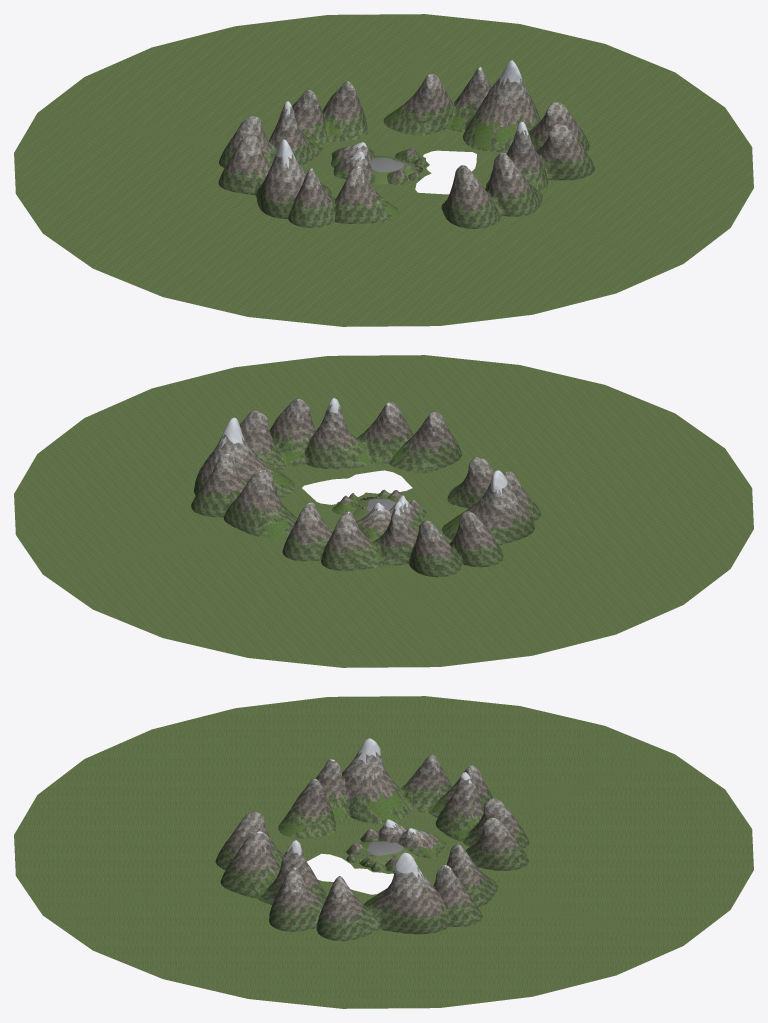
Rendered from City_Terrain.fbx.
The picture shows the model from 3 angles, top to bottom: view 1: azimuth 30°, elevation 25°; view 2: azimuth 150°, elevation 25°; view 3: azimuth 270°, elevation 25°; orthographic projection.
Parts seen in each view (by area): view 1: Terrain_Ground.001, Terrain_M외부 쉘21_002_LOD0, Terrain_M외부 쉘21_001_LOD0, Terrain_M그룹24_002_LOD0, Terrain_cm2_p0_LOD0; view 2: Terrain_Ground.001, Terrain_M외부 쉘21_002_LOD0, Terrain_M외부 쉘21_001_LOD0, Terrain_M그룹24_002_LOD0; view 3: Terrain_Ground.001, Terrain_M외부 쉘21_002_LOD0, Terrain_M외부 쉘21_001_LOD0, Terrain_M그룹24_002_LOD0, Terrain_cm2_p0_LOD0.
Boxes of the visible parts, left/top/right/bottom form: Terrain_Ground.001: left=14, top=14, right=753, bottom=326; Terrain_M외부 쉘21_002_LOD0: left=383, top=60, right=594, bottom=228; Terrain_M외부 쉘21_001_LOD0: left=218, top=81, right=399, bottom=227; Terrain_M그룹24_002_LOD0: left=331, top=142, right=375, bottom=184; Terrain_cm2_p0_LOD0: left=369, top=155, right=422, bottom=184; Terrain_Ground.001: left=14, top=355, right=753, bottom=667; Terrain_M외부 쉘21_002_LOD0: left=191, top=398, right=461, bottom=537; Terrain_M외부 쉘21_001_LOD0: left=282, top=457, right=540, bottom=577; Terrain_M그룹24_002_LOD0: left=356, top=495, right=426, bottom=539; Terrain_Ground.001: left=14, top=696, right=753, bottom=1008; Terrain_M외부 쉘21_002_LOD0: left=215, top=811, right=498, bottom=941; Terrain_M외부 쉘21_001_LOD0: left=278, top=738, right=529, bottom=870; Terrain_M그룹24_002_LOD0: left=360, top=819, right=446, bottom=858; Terrain_cm2_p0_LOD0: left=356, top=841, right=417, bottom=867.
Size of what is drawn, in the model's own units: 1165 by 118 by 1165.
7 materials, 7 textured.
